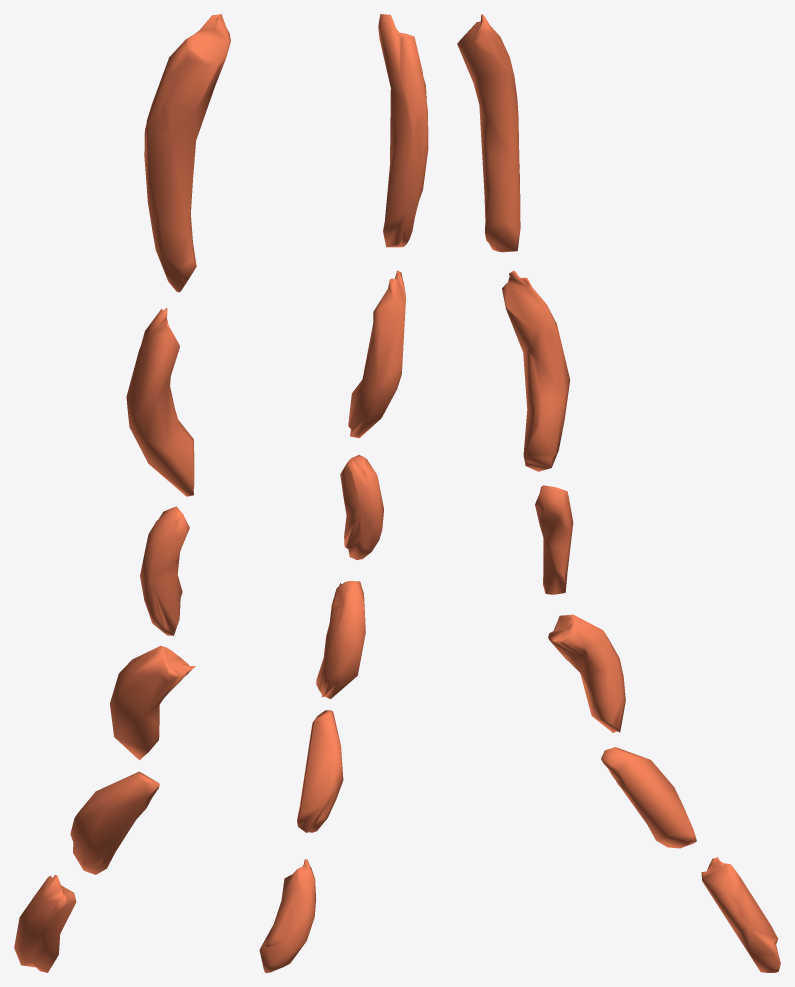
Rendered from Interspinales_colli_muscles.r_Generated_Mesh_From_X3D.448.glb.
3 renders of one model, left to right at view 1: azimuth 30°, elevation 25°; view 2: azimuth 150°, elevation 25°; view 3: azimuth 270°, elevation 25°, orthographic. The views are drawn at different scales.
Visible parts, largest first — view 1: Interspinales_colli_muscles.r_Generated_Mesh_From_X3D.448; view 2: Interspinales_colli_muscles.r_Generated_Mesh_From_X3D.448; view 3: Interspinales_colli_muscles.r_Generated_Mesh_From_X3D.448.
Boxes of the visible parts, <box> form: Interspinales_colli_muscles.r_Generated_Mesh_From_X3D.448: <box>14,14,230,972</box>; Interspinales_colli_muscles.r_Generated_Mesh_From_X3D.448: <box>259,14,428,972</box>; Interspinales_colli_muscles.r_Generated_Mesh_From_X3D.448: <box>457,14,780,972</box>.
Size of the model in its own units: 0.00691 by 0.0903 by 0.0275.
